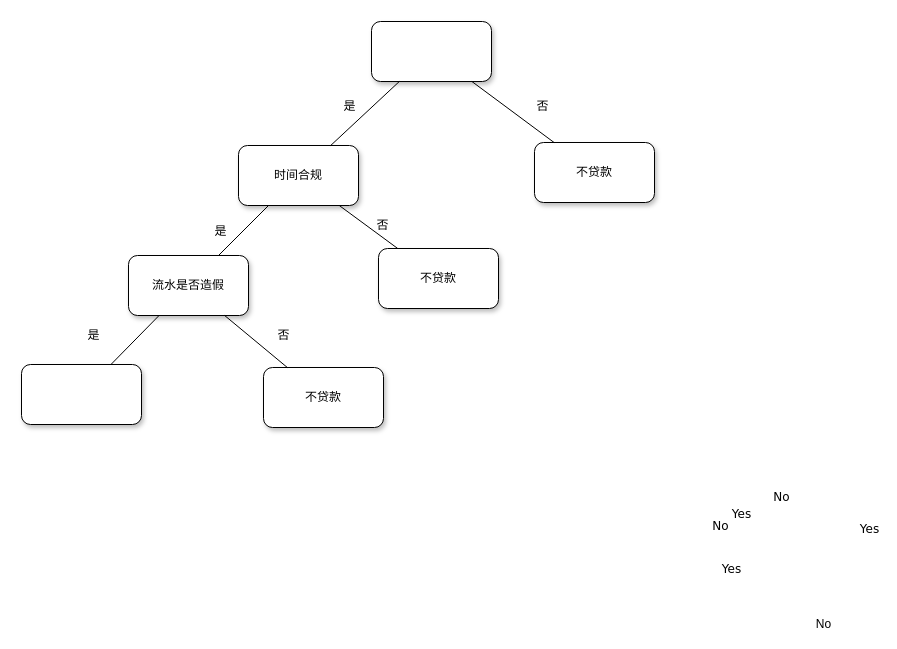
The diagram is 897 pixels wide and 649 high, and some of its shapes have lost their labels. Each missing label, with the centre of its shape:
"月收入" belongs at point (432, 52).
"贷款" belongs at point (82, 396).
